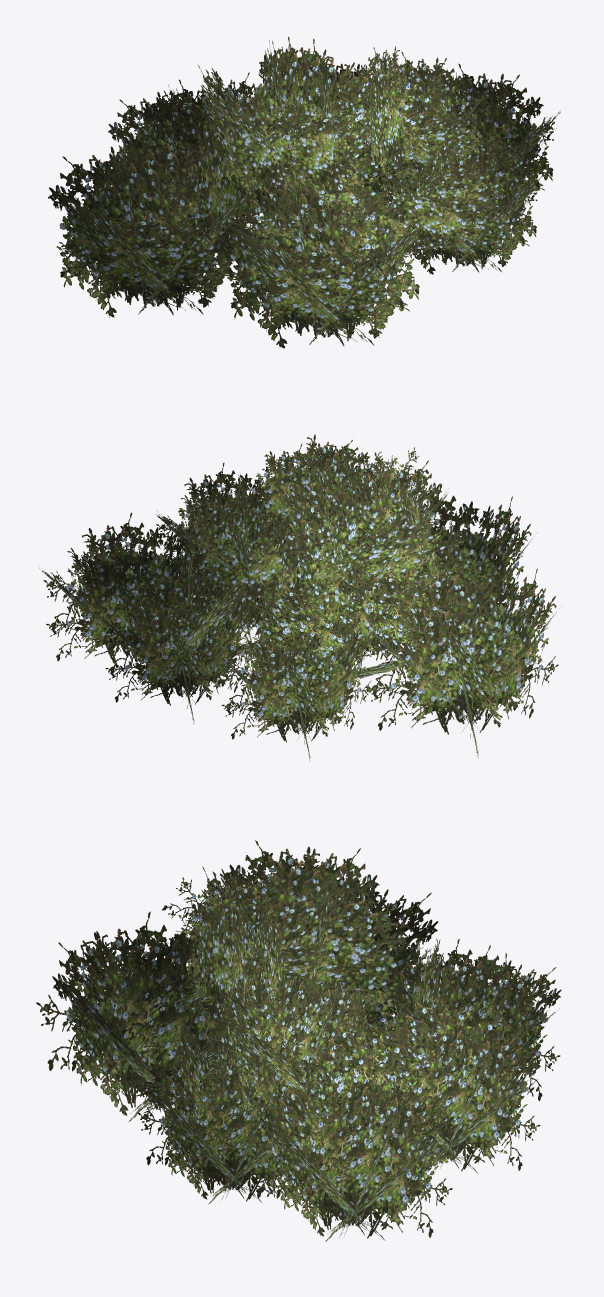
The model's file is core_shrb_perzizole_l0.fbx.
3 views of the same model, one above another, from view 1: azimuth 30°, elevation 25°; view 2: azimuth 150°, elevation 25°; view 3: azimuth 270°, elevation 25° (orthographic). The views are drawn at different scales.
Parts seen in each view (by area): view 1: mesh_node; view 2: mesh_node; view 3: mesh_node.
Boxes of the visible parts, <box> form: mesh_node: <box>48,36,560,348</box>; mesh_node: <box>39,434,559,761</box>; mesh_node: <box>36,840,561,1241</box>.
Size of the model in its own units: 10.78 by 5.47 by 8.72.
